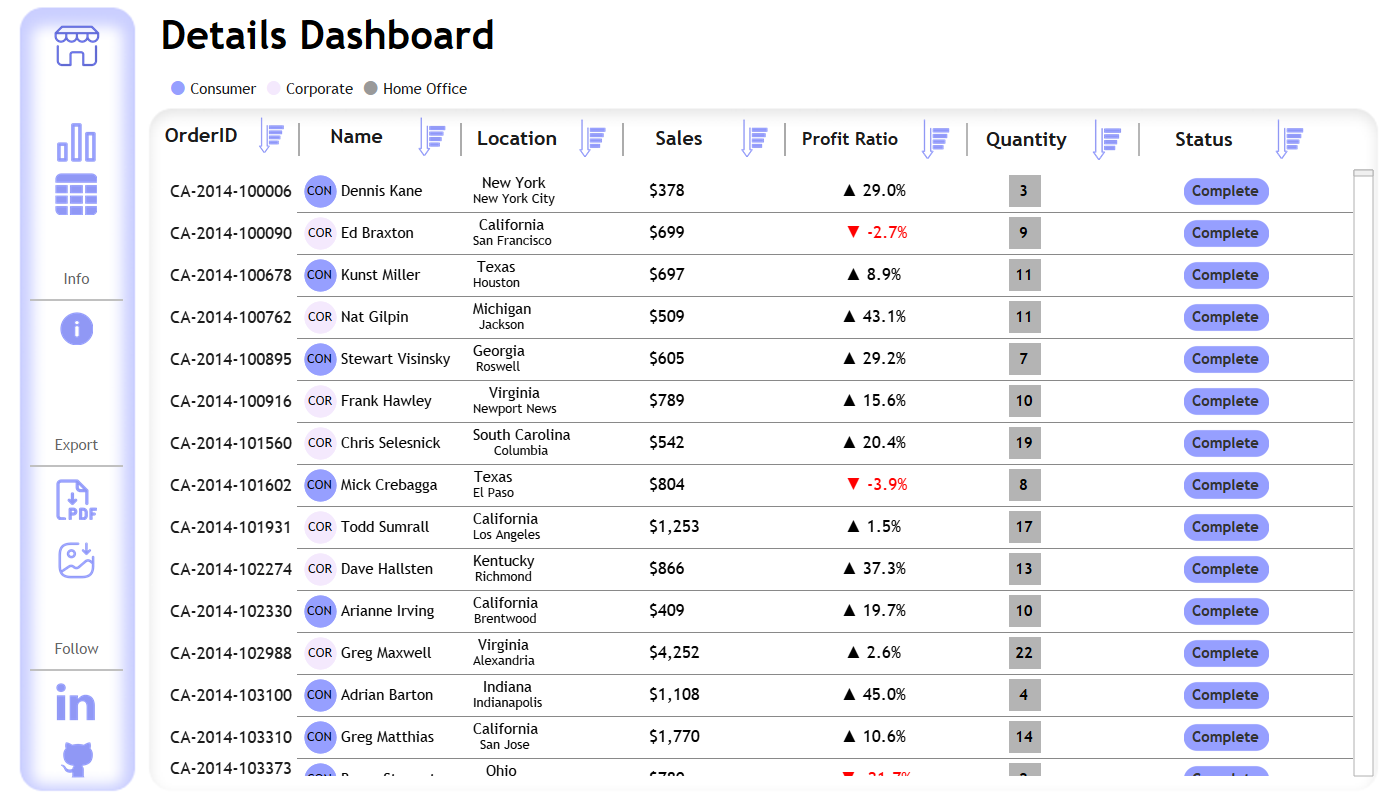

This screenshot's page, from the dashboard's own definition file:
{"tool":"tableau","page":{"name":"Details","canvas":[1400,800],"ordinal":0},"visuals":[{"type":"image","param":"Image/Details Background.png","box":[0,0,1400,800]},{"type":"text","box":[153,0,547,113]},{"type":"blank","box":[700,0,146,113]},{"type":"image","param":"Image/Details Informations.png","box":[140,1,1258,798]},{"type":"image","param":"Image/store.png","box":[20,20,113,50.7]},{"type":"blank","box":[20,70.7,113,50.7]},{"type":"text","box":[153,113,96,44]},{"type":"dashboard-object","box":[249,113,44,44]},{"type":"blank","box":[293,113,12,53]},{"type":"text","box":[305,113,103,47]},{"type":"dashboard-object","box":[408,113,47,47]},{"type":"blank","box":[455,113,12,53]},{"type":"text","box":[467,113,100,50]},{"type":"dashboard-object","box":[567,113,50,50]},{"type":"blank","box":[617,113,12,53]},{"type":"text","box":[629,113,100,50]},{"type":"dashboard-object","box":[729,113,50,50]},{"type":"blank","box":[779,113,12,53]},{"type":"text","box":[791,113,118,52]},{"type":"dashboard-object","box":[909,113,52,52]},{"type":"blank","box":[961,113,12,53]},{"type":"text","box":[973,113,107,53]},{"type":"dashboard-object","box":[1080,113,53,53]},{"type":"blank","box":[1133,113,12,53]},{"type":"text","box":[1145,113,118,52]},{"type":"dashboard-object","box":[1263,113,52,52]},{"type":"dashboard-object","box":[20,121.5,113,42]},{"type":"filter","title":"Details Table","param":"[federated.092n5at1iwde1215xpvts0dch7du].[none:Order ID:nk]","box":[153,157,140,60]},{"type":"filter","title":"Details Table","param":"[federated.092n5at1iwde1215xpvts0dch7du].[none:Customer Name:nk]","box":[305,160,150,60]},{"type":"filter","title":"Details Table","param":"[federated.092n5at1iwde1215xpvts0dch7du].[none:State:nk]","box":[467,163,150,60]},{"type":"filter","title":"Details Table","param":"[federated.092n5at1iwde1215xpvts0dch7du].[sum:Sales:qk]","box":[629,163,150,51]},{"type":"blank","box":[20,163.5,113,10]},{"type":"filter","title":"Details Table","param":"[federated.092n5at1iwde1215xpvts0dch7du].[usr:Calculation_1548393914851164160:nk","box":[791,165,170,58]},{"type":"filter","title":"Details Table","param":"[federated.092n5at1iwde1215xpvts0dch7du].[none:Calculation_74872411712827395:nk]","box":[1145,165,170,60]},{"type":"worksheet","title":"Details Table","mark":"Circle","rows":["Order ID"],"cols":["Calculation_74872411705106433","Calculation_74872411705106433","Calculation_74872411718529031","Calculation_74872411720339465","Calculation_74872411720339465","Calculation_74872411724111885","Calculation_74872411724660751","Calculation_74872411724660751"],"box":[153,166,1227,614]},{"type":"filter","title":"Details Table","param":"[federated.092n5at1iwde1215xpvts0dch7du].[sum:Quantity:qk]","box":[973,166,160,51]},{"type":"dashboard-object","box":[20,173.5,113,42]},{"type":"blank","box":[20,215.5,113,50.7]},{"type":"filter","title":"Details Table","param":"[federated.092n5at1iwde1215xpvts0dch7du].[none:City:nk]","box":[467,223,150,60]},{"type":"text","box":[20,266.2,113,26]},{"type":"blank","box":[20,292.2,113,16]},{"type":"dashboard-object","box":[20,308.2,113,41]},{"type":"blank","box":[20,349.3,113,32]},{"type":"blank","box":[20,381.3,113,50.7]},{"type":"text","box":[20,432,113,26]},{"type":"blank","box":[20,458,113,16]},{"type":"dashboard-object","box":[20,474,113,50.7]},{"type":"blank","box":[20,524.7,113,10]},{"type":"dashboard-object","box":[20,534.7,113,50.7]},{"type":"blank","box":[20,585.5,113,50.7]},{"type":"text","box":[20,636.2,113,26]},{"type":"blank","box":[20,662.2,113,16]},{"type":"image","param":"Image/linkedin.png","box":[20,678.2,113,50.7]},{"type":"blank","box":[20,729,113,10]},{"type":"image","param":"Image/github.png","box":[20,739,113,41]}]}

Visuals, with their boxes on the page's 1400x800 design canvas (x1, y1, x2, y2). These are canvas units, not pixel positions in the 1400x800 screenshot, which may show the page scaled, cropped or inside an application window:
image: x1=0, y1=0, x2=1400, y2=800
text: x1=153, y1=0, x2=700, y2=113
blank: x1=700, y1=0, x2=846, y2=113
image: x1=140, y1=1, x2=1398, y2=799
image: x1=20, y1=20, x2=133, y2=71
blank: x1=20, y1=71, x2=133, y2=121
text: x1=153, y1=113, x2=249, y2=157
dashboard-object: x1=249, y1=113, x2=293, y2=157
blank: x1=293, y1=113, x2=305, y2=166
text: x1=305, y1=113, x2=408, y2=160
dashboard-object: x1=408, y1=113, x2=455, y2=160
blank: x1=455, y1=113, x2=467, y2=166
text: x1=467, y1=113, x2=567, y2=163
dashboard-object: x1=567, y1=113, x2=617, y2=163
blank: x1=617, y1=113, x2=629, y2=166
text: x1=629, y1=113, x2=729, y2=163
dashboard-object: x1=729, y1=113, x2=779, y2=163
blank: x1=779, y1=113, x2=791, y2=166
text: x1=791, y1=113, x2=909, y2=165
dashboard-object: x1=909, y1=113, x2=961, y2=165
blank: x1=961, y1=113, x2=973, y2=166
text: x1=973, y1=113, x2=1080, y2=166
dashboard-object: x1=1080, y1=113, x2=1133, y2=166
blank: x1=1133, y1=113, x2=1145, y2=166
text: x1=1145, y1=113, x2=1263, y2=165
dashboard-object: x1=1263, y1=113, x2=1315, y2=165
dashboard-object: x1=20, y1=122, x2=133, y2=164
"Details Table" filter: x1=153, y1=157, x2=293, y2=217
"Details Table" filter: x1=305, y1=160, x2=455, y2=220
"Details Table" filter: x1=467, y1=163, x2=617, y2=223
"Details Table" filter: x1=629, y1=163, x2=779, y2=214
blank: x1=20, y1=164, x2=133, y2=174
"Details Table" filter: x1=791, y1=165, x2=961, y2=223
"Details Table" filter: x1=1145, y1=165, x2=1315, y2=225
"Details Table" worksheet (Circle marks): x1=153, y1=166, x2=1380, y2=780
"Details Table" filter: x1=973, y1=166, x2=1133, y2=217
dashboard-object: x1=20, y1=174, x2=133, y2=216
blank: x1=20, y1=216, x2=133, y2=266
"Details Table" filter: x1=467, y1=223, x2=617, y2=283
text: x1=20, y1=266, x2=133, y2=292
blank: x1=20, y1=292, x2=133, y2=308
dashboard-object: x1=20, y1=308, x2=133, y2=349
blank: x1=20, y1=349, x2=133, y2=381
blank: x1=20, y1=381, x2=133, y2=432
text: x1=20, y1=432, x2=133, y2=458
blank: x1=20, y1=458, x2=133, y2=474
dashboard-object: x1=20, y1=474, x2=133, y2=525
blank: x1=20, y1=525, x2=133, y2=535
dashboard-object: x1=20, y1=535, x2=133, y2=585
blank: x1=20, y1=586, x2=133, y2=636
text: x1=20, y1=636, x2=133, y2=662
blank: x1=20, y1=662, x2=133, y2=678
image: x1=20, y1=678, x2=133, y2=729
blank: x1=20, y1=729, x2=133, y2=739
image: x1=20, y1=739, x2=133, y2=780
